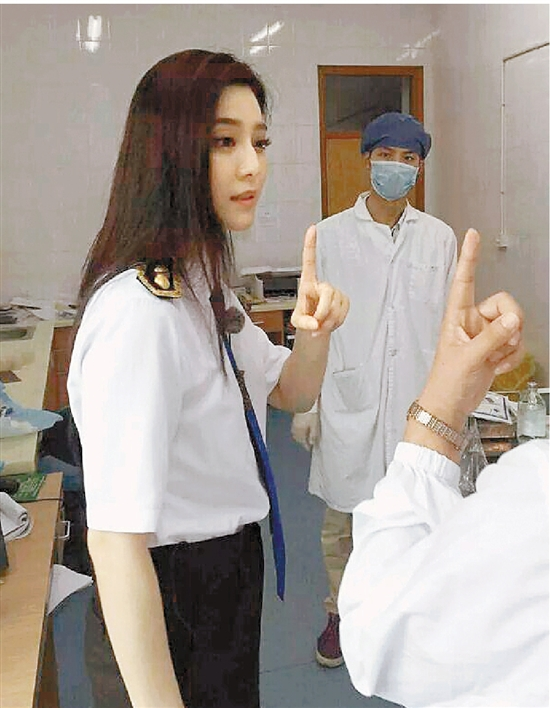face: (201, 87, 267, 230)
face_mask: (370, 137, 416, 199)
